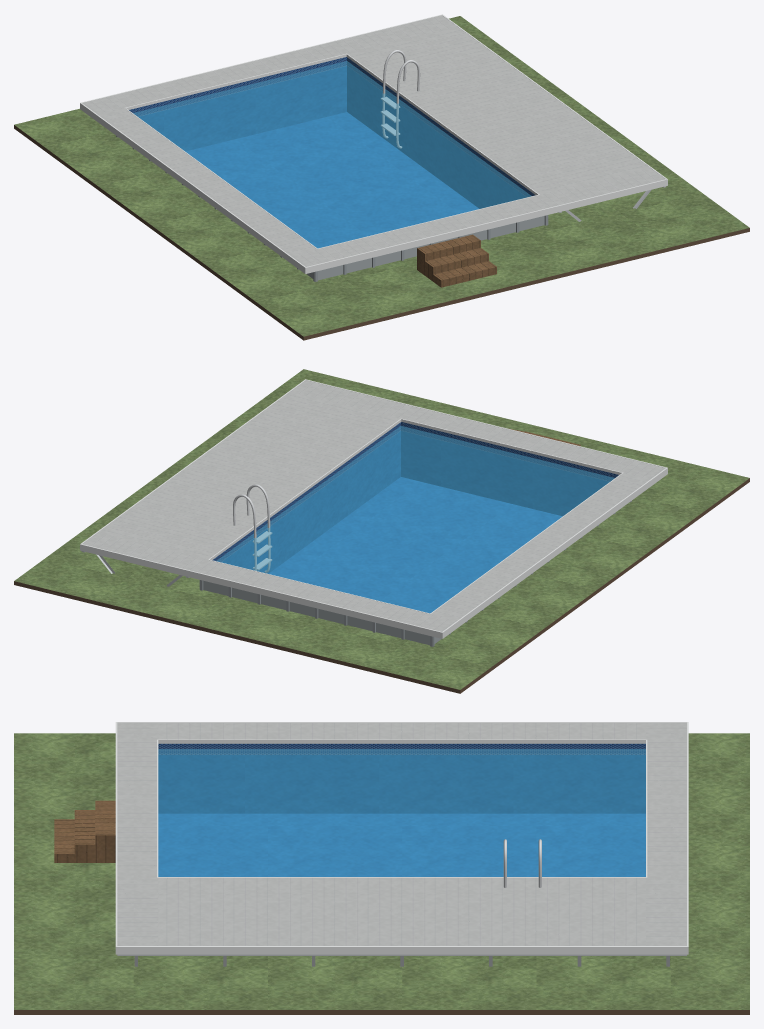
File: kayak-pool-16x24-gray-side-rec-nofence.2aaa3934dd.glb
3 renders of one model, top to bottom at view 1: azimuth 30°, elevation 25°; view 2: azimuth 150°, elevation 25°; view 3: azimuth 270°, elevation 25°, orthographic. The views are drawn at different scales.
Parts seen in each view (by area): view 1: ground, water, deck, liner_floor, liner_wall, fascia, soil, steps, wall, steel; view 2: ground, water, deck, liner_floor, liner_wall, fascia, soil, wall, steel; view 3: ground, water, deck, liner_wall, liner_floor, fascia, soil, steps, stud.
Boxes of the visible parts, x1,y1,x2,y2 form: ground: (14,16,749,336); water: (133,61,531,248); deck: (82,15,665,266); liner_floor: (185,112,478,248); liner_wall: (129,57,535,208); fascia: (80,14,667,273); soil: (14,125,749,340); steps: (417,234,496,287); wall: (306,216,544,280); steel: (380,50,420,148); ground: (14,369,749,689); water: (216,426,614,613); deck: (82,380,665,631); liner_floor: (269,477,562,613); liner_wall: (212,422,618,573); fascia: (80,379,667,638); soil: (14,478,749,693); wall: (203,580,441,645); steel: (233,484,272,572); ground: (14,733,749,1009); water: (158,749,645,876); deck: (117,723,686,945); liner_wall: (158,743,645,813); liner_floor: (158,813,645,876); fascia: (115,722,688,954); soil: (14,1010,749,1014); steps: (54,800,115,862); stud: (117,954,686,966).
Bounding box in the file's own units: 9.75 × 1.9 × 10.97.
Materials: 12 (5 with a texture image).
